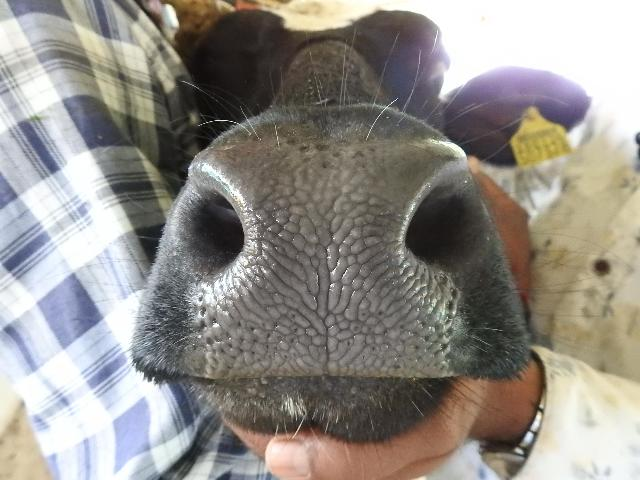Muzzle: (232, 152, 414, 376)
